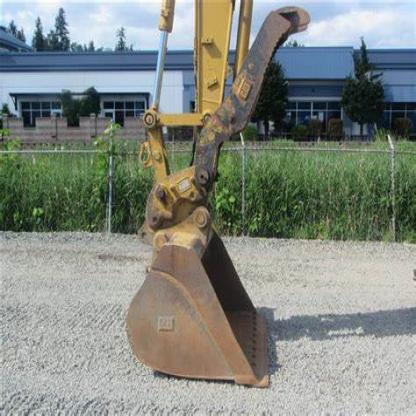excavator: (120, 3, 308, 395)
